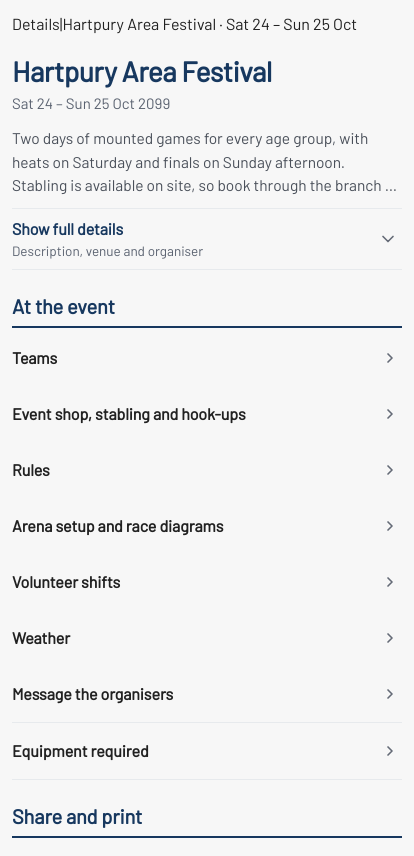
it: DetailsTab › shows the equipment list to signed-in people and opens it on demand
Click the button "Equipment required" at (80, 751), box 12,724 -> 402,780
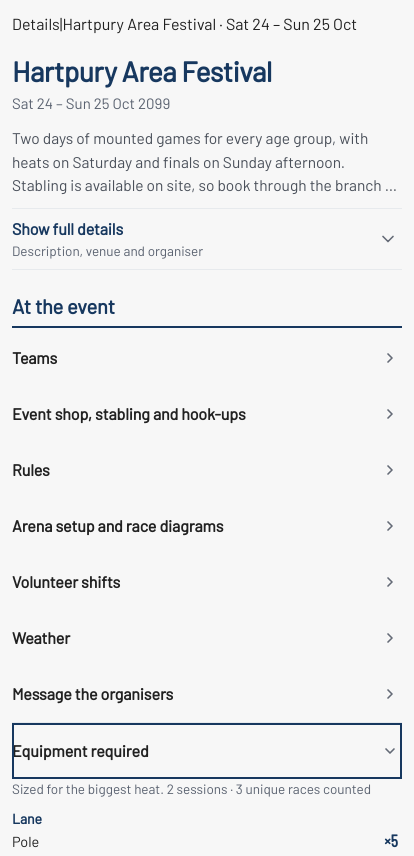
Now the text "Pole" is shown, box 12,832 -> 39,851
Now the text "×5" is shown, box 384,832 -> 398,849
